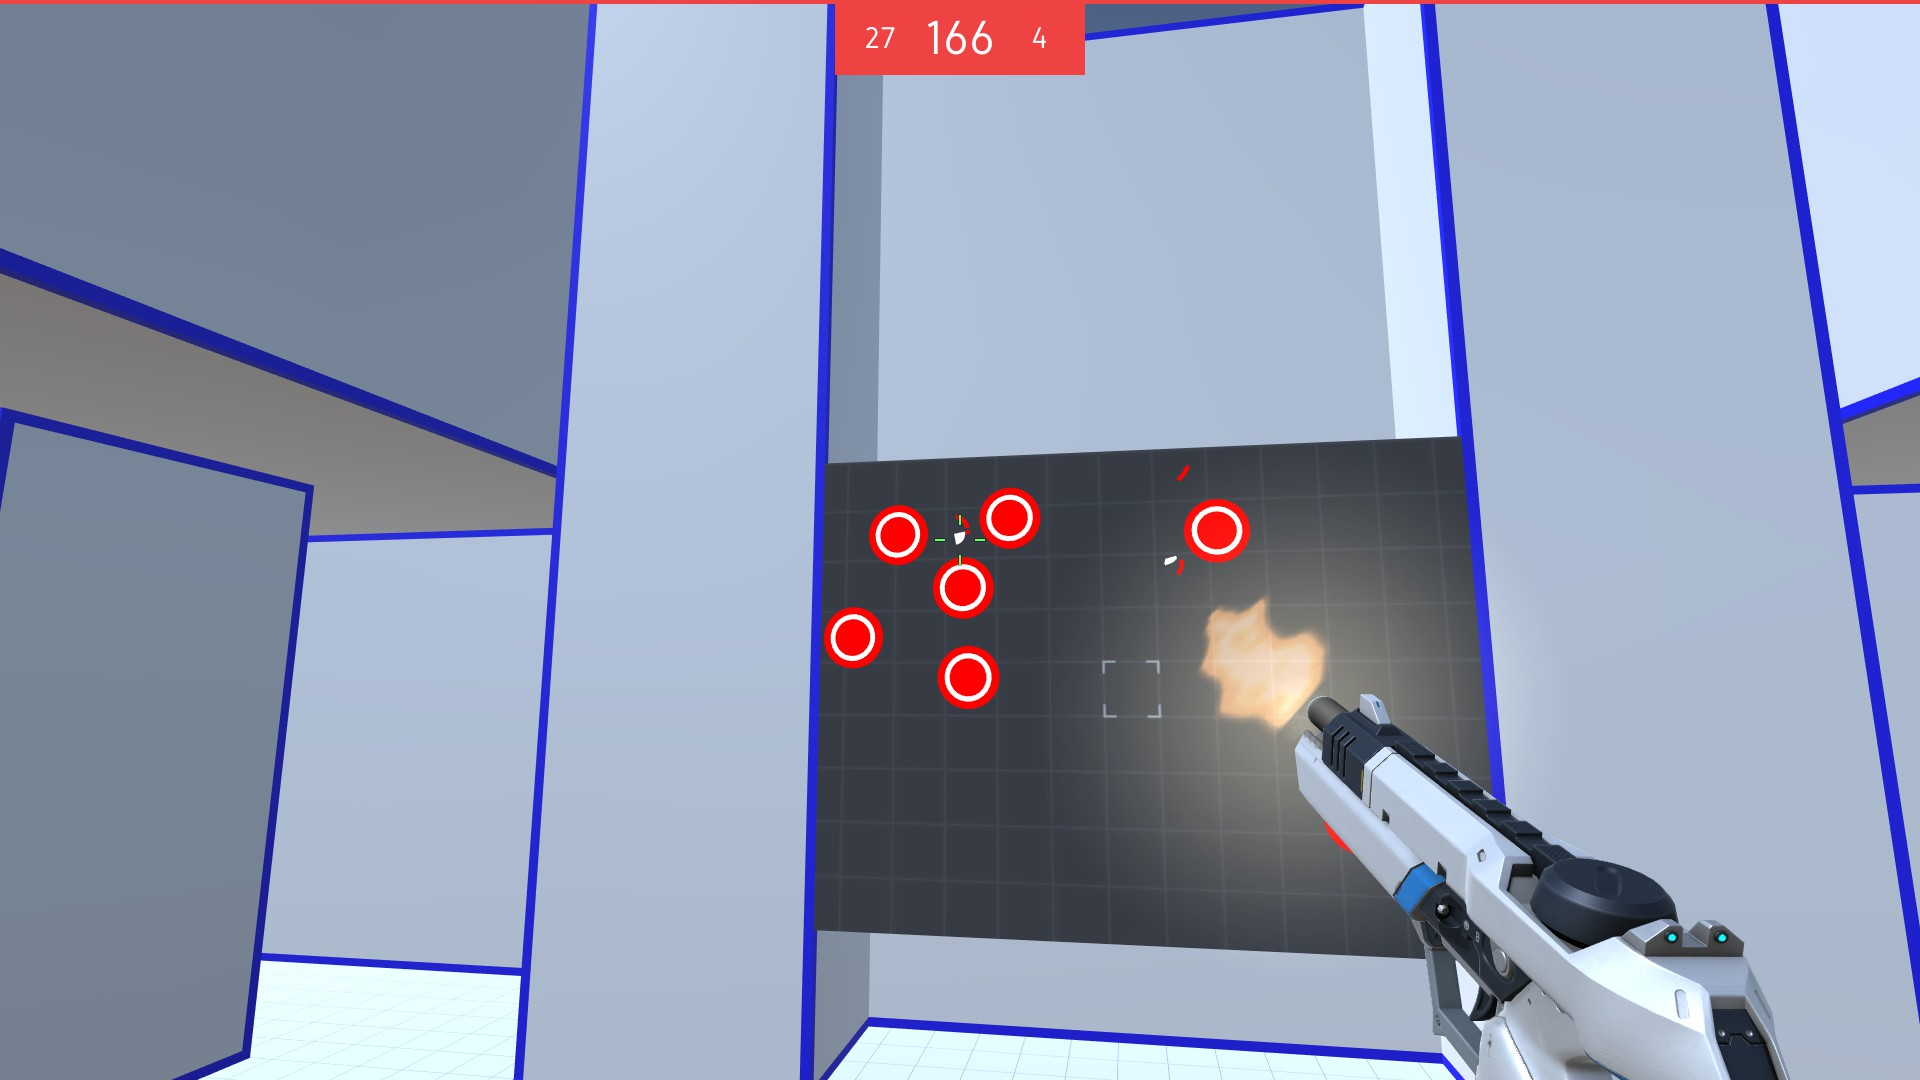target: (934, 644, 1004, 716), (1182, 495, 1254, 562), (976, 487, 1048, 554), (820, 603, 887, 673), (931, 556, 1000, 622), (865, 502, 935, 566)
